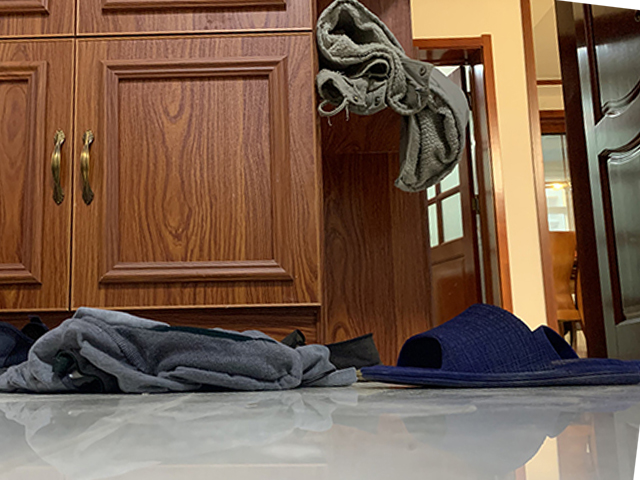cabinet: (1, 1, 325, 344)
slippers: (359, 302, 640, 391)
